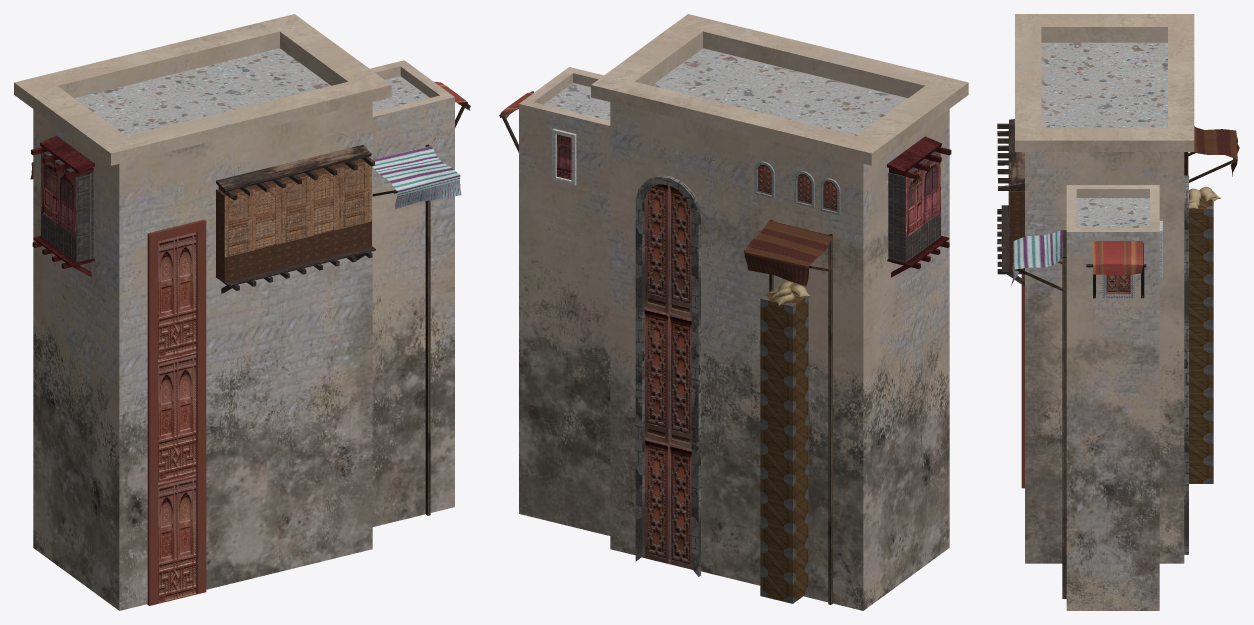
File: medina_cityscape_daar_02_5.gltf
3 views of the same model, side by side, from view 1: azimuth 30°, elevation 25°; view 2: azimuth 150°, elevation 25°; view 3: azimuth 270°, elevation 25° (orthographic). The views are drawn at different scales.
Visible parts, largest first — view 1: medina_cityscape_daar_02_5; view 2: medina_cityscape_daar_02_5; view 3: medina_cityscape_daar_02_5.
Boxes of the visible parts, x1=… form: medina_cityscape_daar_02_5: x1=14, y1=14, x2=470, y2=610; medina_cityscape_daar_02_5: x1=499, y1=14, x2=968, y2=610; medina_cityscape_daar_02_5: x1=997, y1=14, x2=1239, y2=610.
Size of the model in its own units: 7.84 by 8.45 by 4.29.
12 materials, 12 textured.
